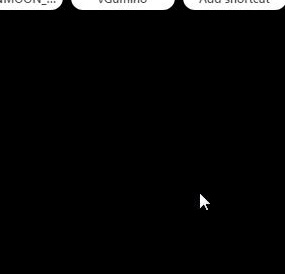cursor: (196, 190, 212, 211)
